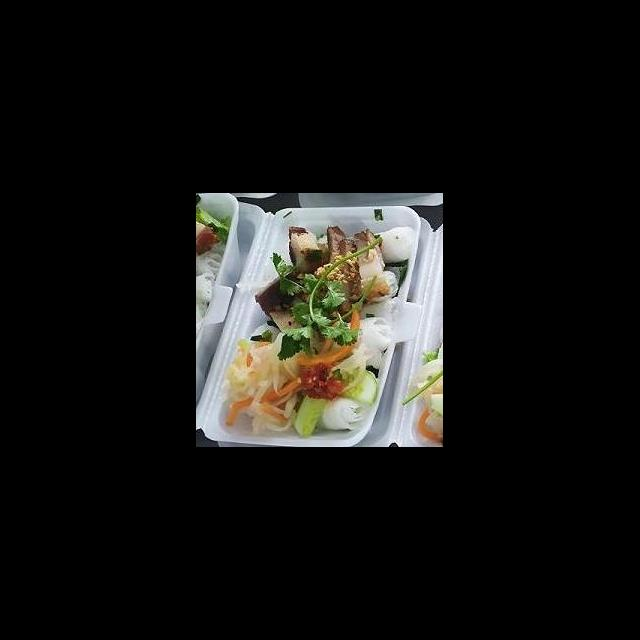banh hoi: (328, 314, 394, 357), (370, 223, 418, 268), (316, 396, 368, 435), (348, 295, 402, 329), (358, 267, 402, 307)
banh hoi heo quay: (227, 204, 424, 444)
dua chua: (220, 324, 314, 438), (294, 306, 362, 371)
thit heo quay: (352, 226, 392, 302), (324, 223, 356, 316), (284, 224, 328, 277), (338, 236, 368, 303)
